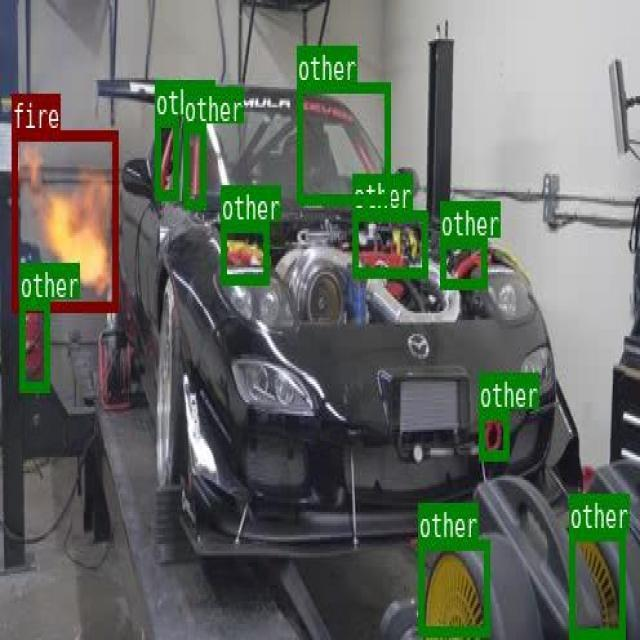fire: (11, 130, 117, 309)
